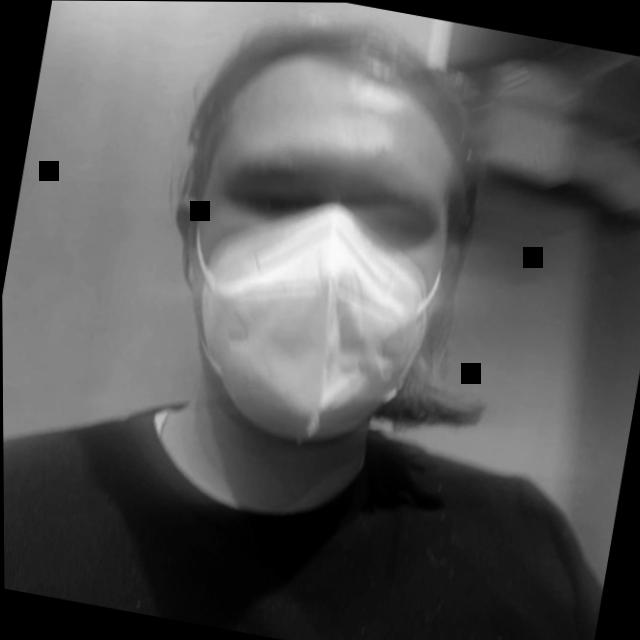Mask: (100, 1, 561, 538)
